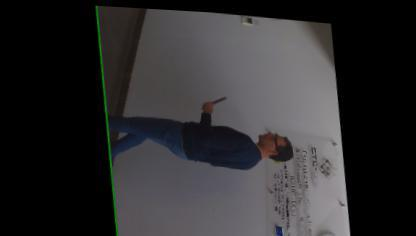knife: (195, 90, 227, 109)
